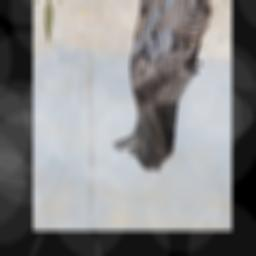Crow: (111, 0, 221, 173)
